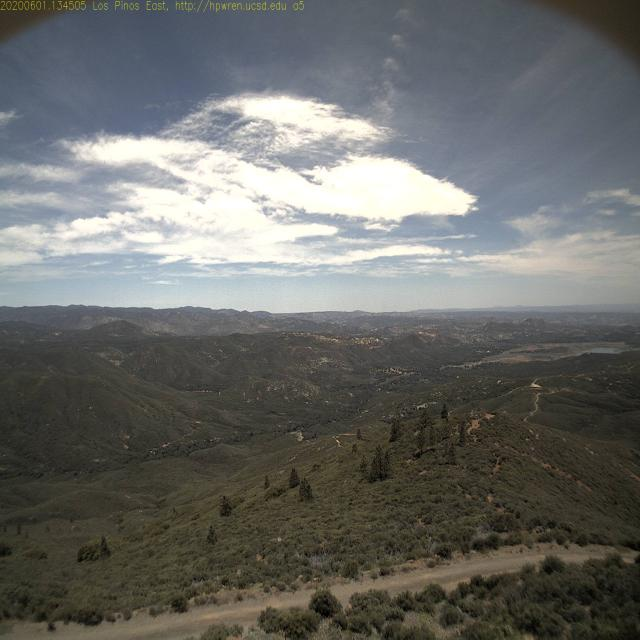smoke: (375, 302, 389, 321)
